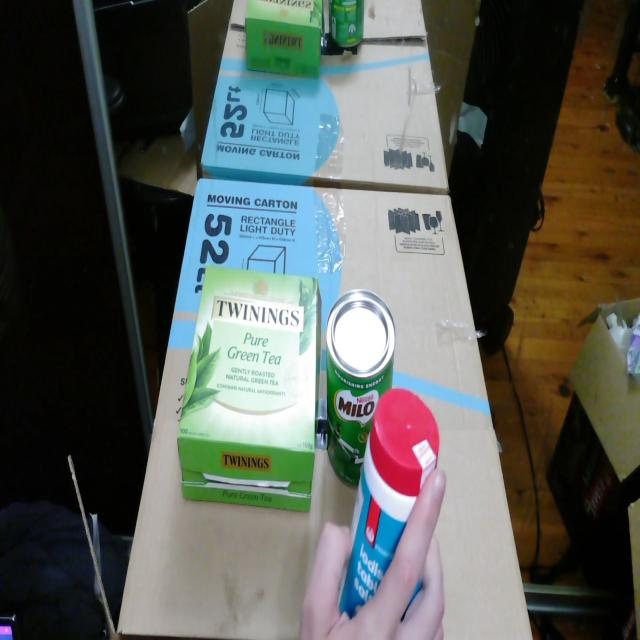nestle_milo_tin: (326, 289, 396, 488)
twinings_greentea_box: (178, 265, 321, 511)
woolworths_salt_bottle: (338, 388, 440, 619), (410, 580, 422, 603)
